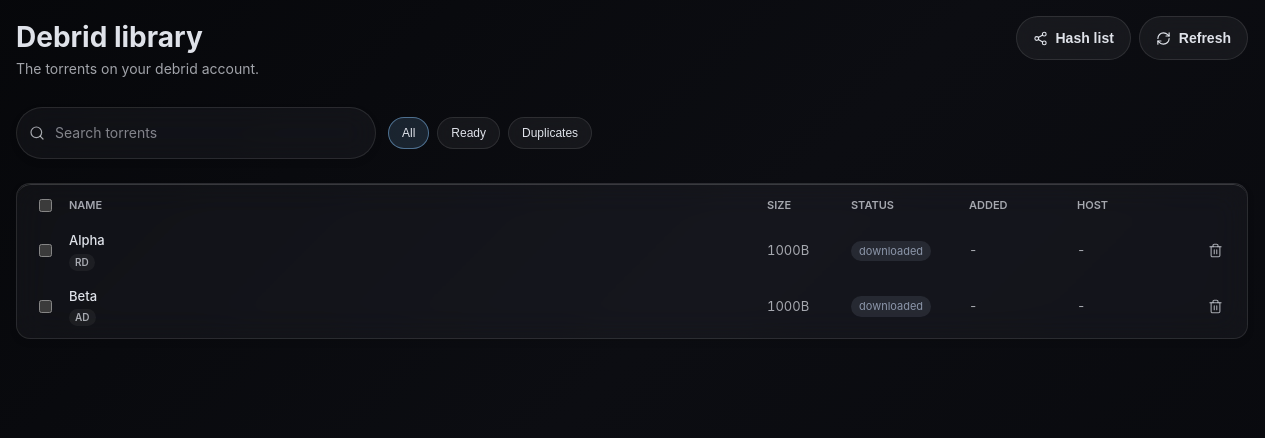
Test: DebridLibrary - select-all + delete › toggling select-all twice clears the selection
Click the checkbox named "Select all": coordinates (46, 206) [39, 199, 52, 212]
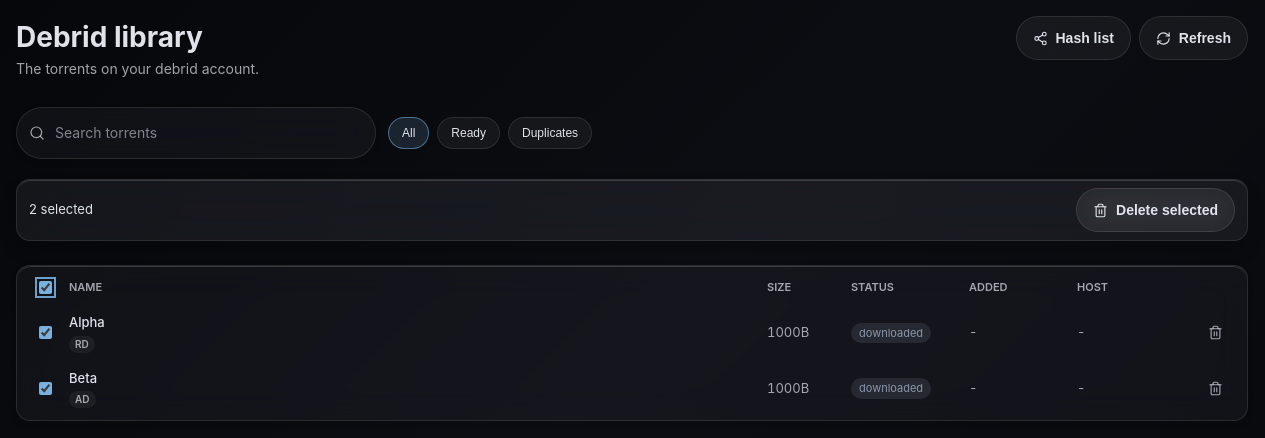
Now the text "2 selected" is shown, box [29, 200, 93, 220]
Click the checkbox named "Select all": coordinates (46, 288) [39, 281, 52, 294]
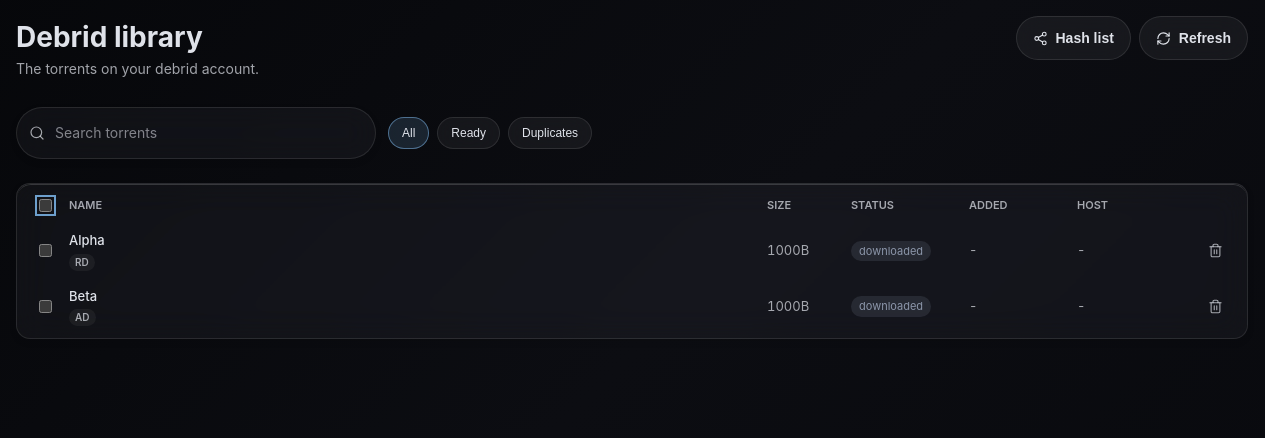
Now the text "selected" is gone
